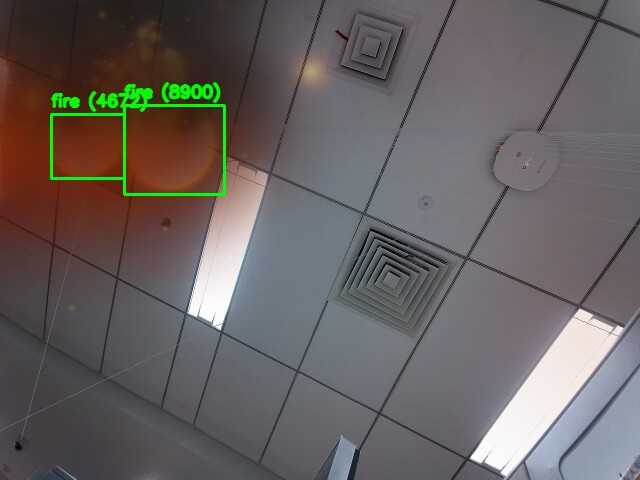fire: (124, 105, 224, 194), (51, 114, 124, 178)
